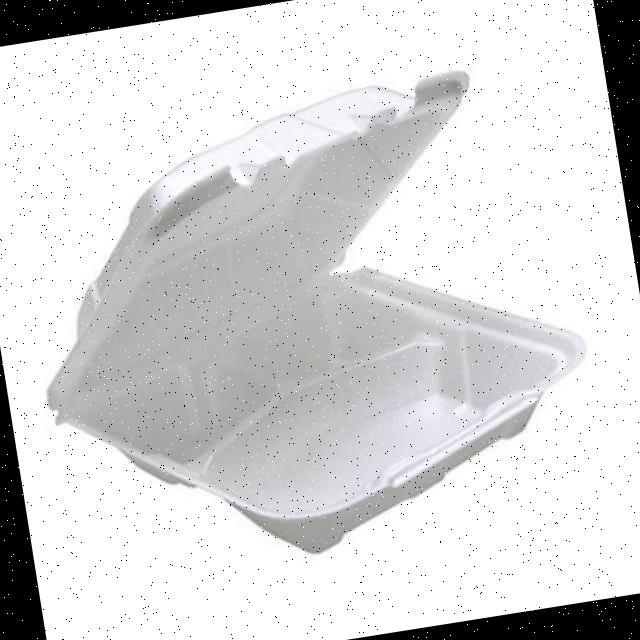styrofoam: (4, 52, 612, 593)
